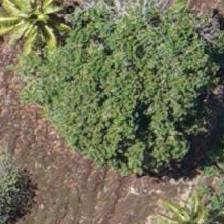coconut_tree: (0, 0, 79, 52), (155, 176, 223, 223)
